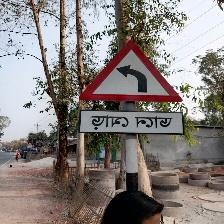Right-turn: (78, 39, 186, 133)
